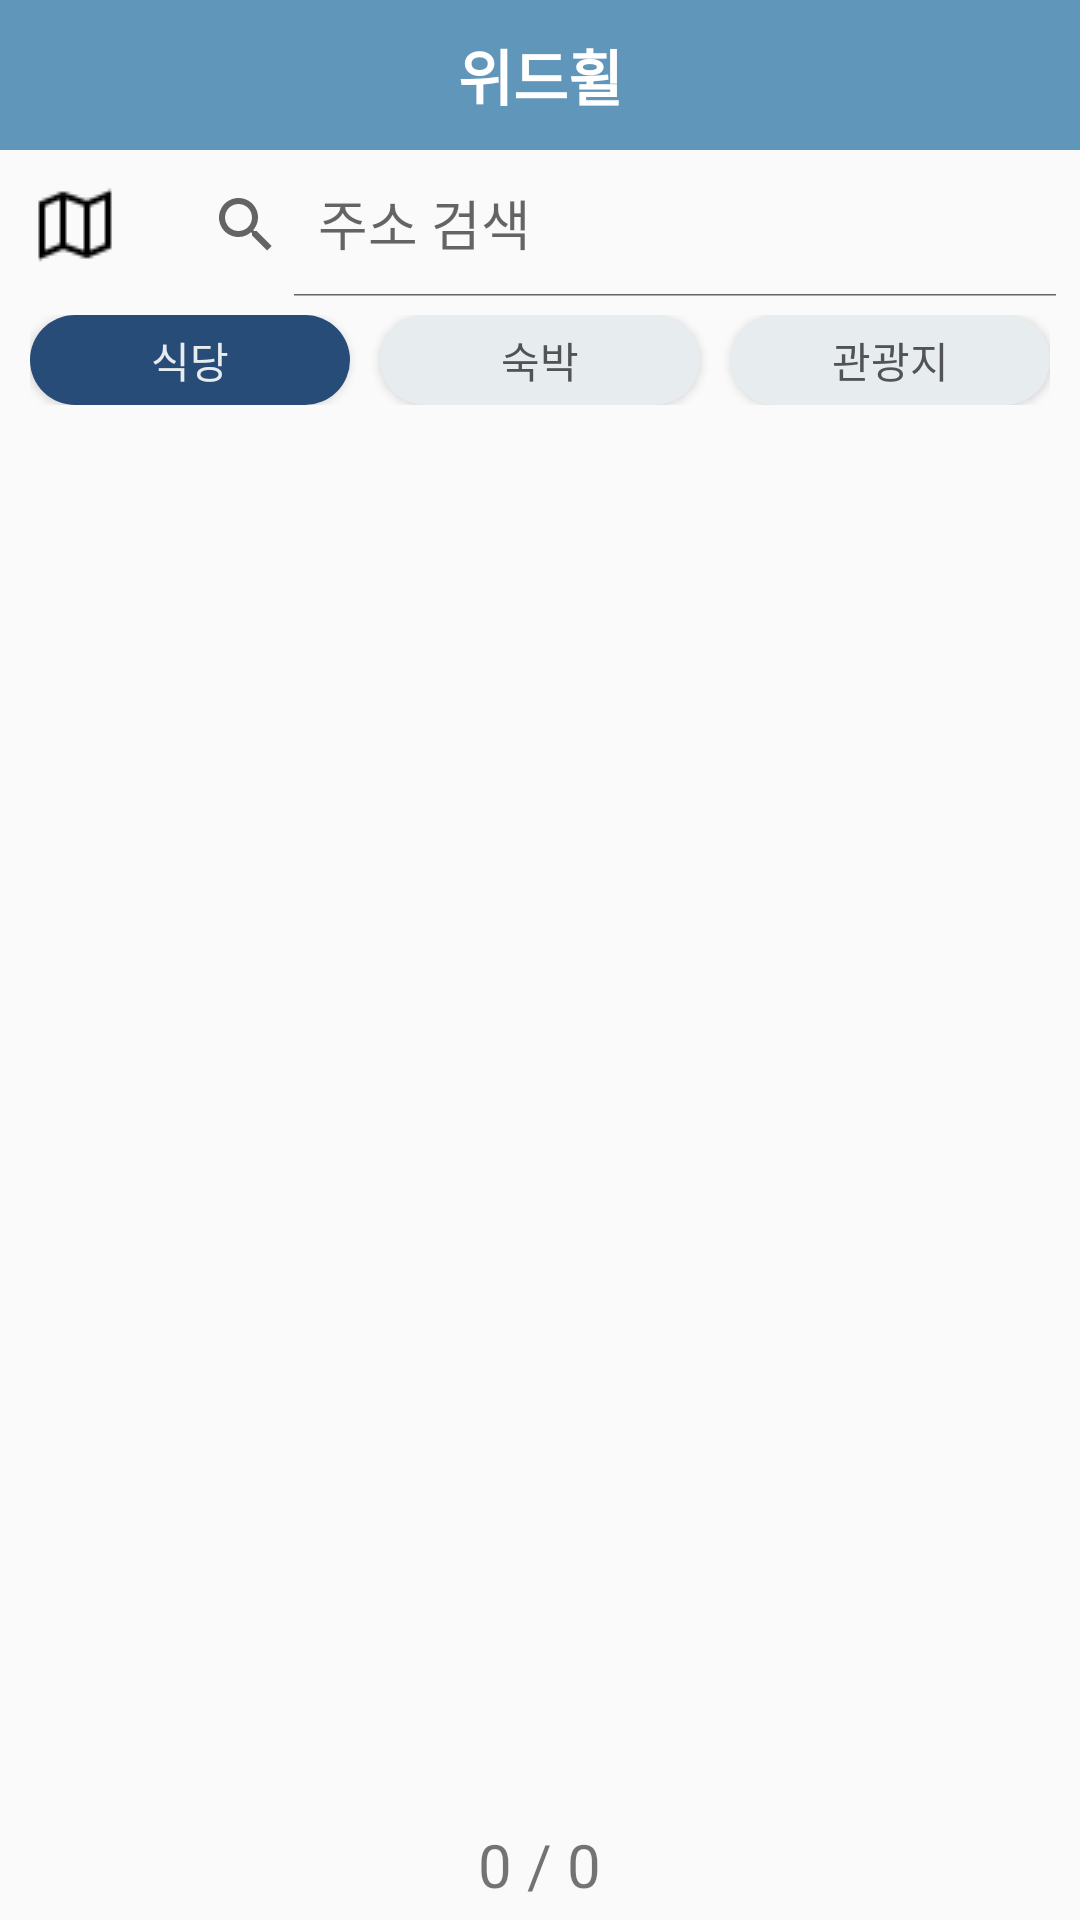

Screen size 1080 × 1920. Icon name, then its box in pixels as (x1,y1,x2,y2):
map: (38,188,112,262)
